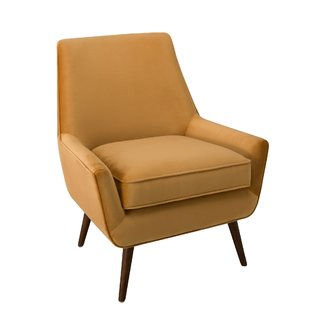chairs: (53, 33, 271, 306)
